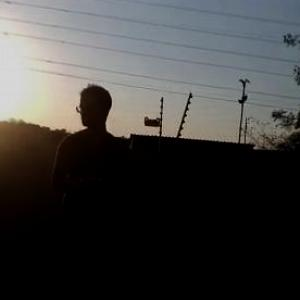follow: (48, 79, 135, 299)
